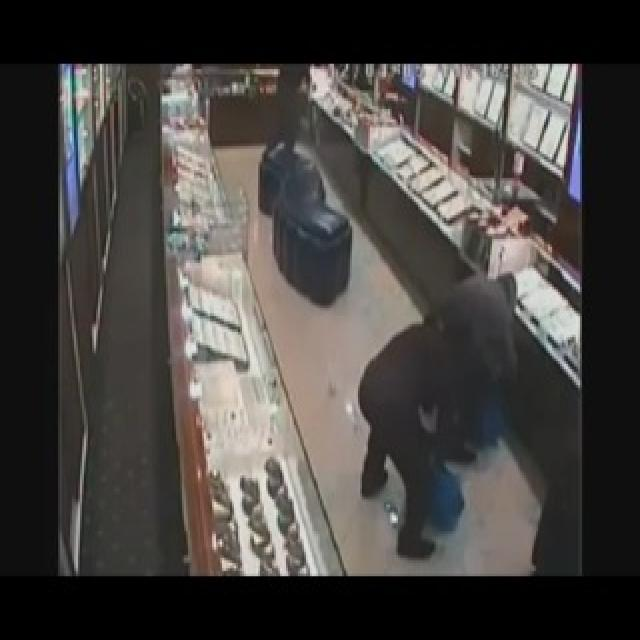thief: (382, 216, 511, 414)
